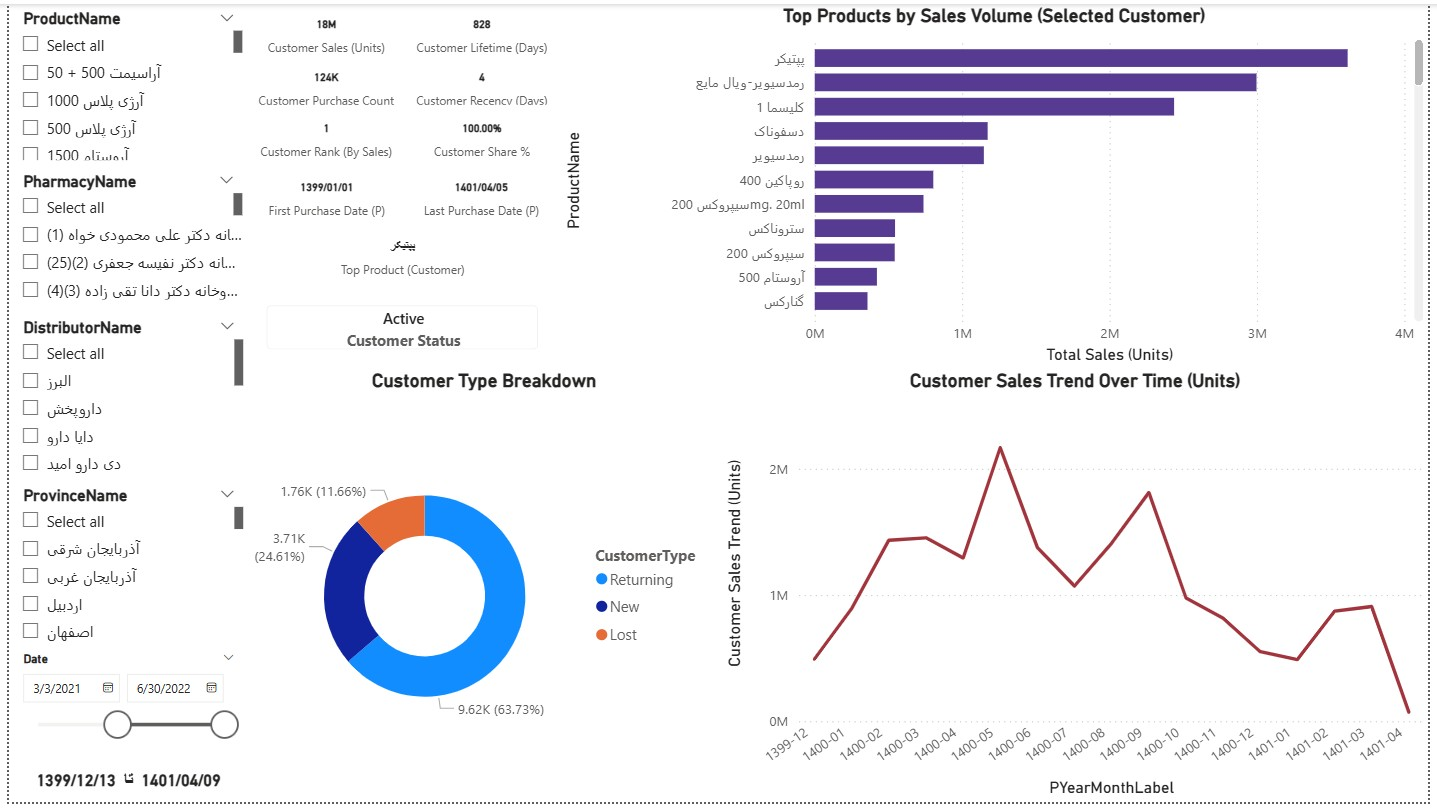

What the dashboard file says about the page in this screenshot:
{"tool":"powerbi","page":{"name":"Customer Details","canvas":[1280,720],"ordinal":4},"visuals":[{"type":"card","fields":{"Values":["Measures Project.Customer Sales (Units)"]},"box":[215.3,0,142,54.1],"z":0},{"type":"card","fields":{"Values":["Measures Project.Customer Purchase Count"]},"box":[215.3,54.1,142,41.7],"z":1000},{"type":"card","fields":{"Values":["Measures Project.Customer Rank (By Sales)"]},"box":[215.3,95.8,142,50.7],"z":2000},{"type":"card","fields":{"Values":["Measures Project.Customer Share %"]},"box":[357.3,95.8,138.6,50.7],"z":3000},{"type":"card","fields":{"Values":["Measures Project.Customer Recency (Days)"]},"box":[357.3,54.1,138.6,41.7],"z":4000},{"type":"card","fields":{"Values":["Measures Project.Customer Lifetime (Days)"]},"box":[357.3,0,138.6,54.1],"z":5000},{"type":"slicer","fields":{"Values":["Products.ProductName"]},"box":[0,0,215.7,146.1],"z":6000},{"type":"slicer","fields":{"Values":["Distributors.DistributorName"]},"box":[0,278.3,215.9,151],"z":7000},{"type":"slicer","fields":{"Values":["Provinces.ProvinceName"]},"box":[0,429.2,215.9,151],"z":8000},{"type":"card","fields":{"Values":["Measures Project.Selected Range (P)"]},"box":[0,682.6,215.9,37.4],"z":9000},{"type":"card","fields":{"Values":["Measures Project.First Purchase Date (P)"]},"box":[216.7,146.3,140.7,54.9],"z":10000},{"type":"card","fields":{"Values":["Measures Project.Last Purchase Date (P)"]},"box":[357.4,146.3,137.9,54.9],"z":11000},{"type":"donutChart","title":"Customer Type Breakdown","fields":{"Category":["Customer Types.CustomerType"],"Y":["Measures Project.Customer Type Value"]},"box":[216.6,328.8,424.2,390.7],"z":12000},{"type":"lineChart","title":"Customer Sales Trend Over Time (Units)","fields":{"Category":["Calendar.PYearMonthLabel"],"Y":["Measures Project.Customer Sales Trend (Units)"]},"box":[640.8,328.8,639.5,390.7],"z":13000},{"type":"card","fields":{"Values":["Measures Project.Top Product (Customer)"]},"box":[215.3,201.2,280,53.5],"z":14000},{"type":"barChart","title":"Top Products by Sales Volume (Selected Customer)","fields":{"Category":["Products.ProductName"],"Y":["Measures Project.Total Sales (Units)"]},"box":[495.9,0,784.5,329.1],"z":15000},{"type":"slicer","fields":{"Values":["Calendar.Date"]},"box":[0,579.9,215.5,102.1],"z":16000},{"type":"slicer","fields":{"Values":["Pharmacies.PharmacyName"]},"box":[0,146.3,215.3,132.2],"z":17000},{"type":"cardVisual","fields":{"Data":["Measures Project.Customer Status"]},"box":[215.3,254.7,280,74.6],"z":18000}]}

Visuals, with their boxes in screenshot pixels (x1, y1, x2, y2), scaled from the page's 1280x720 canvas onto the 1437x808 screenshot:
card - Measures Project.Customer Sales (Units): (242, 0, 401, 61)
card - Measures Project.Customer Purchase Count: (242, 61, 401, 108)
card - Measures Project.Customer Rank (By Sales): (242, 108, 401, 164)
card - Measures Project.Customer Share %: (401, 108, 557, 164)
card - Measures Project.Customer Recency (Days): (401, 61, 557, 108)
card - Measures Project.Customer Lifetime (Days): (401, 0, 557, 61)
slicer - Products.ProductName: (0, 0, 242, 164)
slicer - Distributors.DistributorName: (0, 312, 242, 482)
slicer - Provinces.ProvinceName: (0, 482, 242, 651)
card - Measures Project.Selected Range (P): (0, 766, 242, 807)
card - Measures Project.First Purchase Date (P): (243, 164, 401, 226)
card - Measures Project.Last Purchase Date (P): (401, 164, 556, 226)
"Customer Type Breakdown" donutChart: (243, 369, 719, 807)
"Customer Sales Trend Over Time (Units)" lineChart: (719, 369, 1436, 807)
card - Measures Project.Top Product (Customer): (242, 226, 556, 286)
"Top Products by Sales Volume (Selected Customer)" barChart: (557, 0, 1436, 369)
slicer - Calendar.Date: (0, 651, 242, 765)
slicer - Pharmacies.PharmacyName: (0, 164, 242, 313)
cardVisual - Measures Project.Customer Status: (242, 286, 556, 370)
